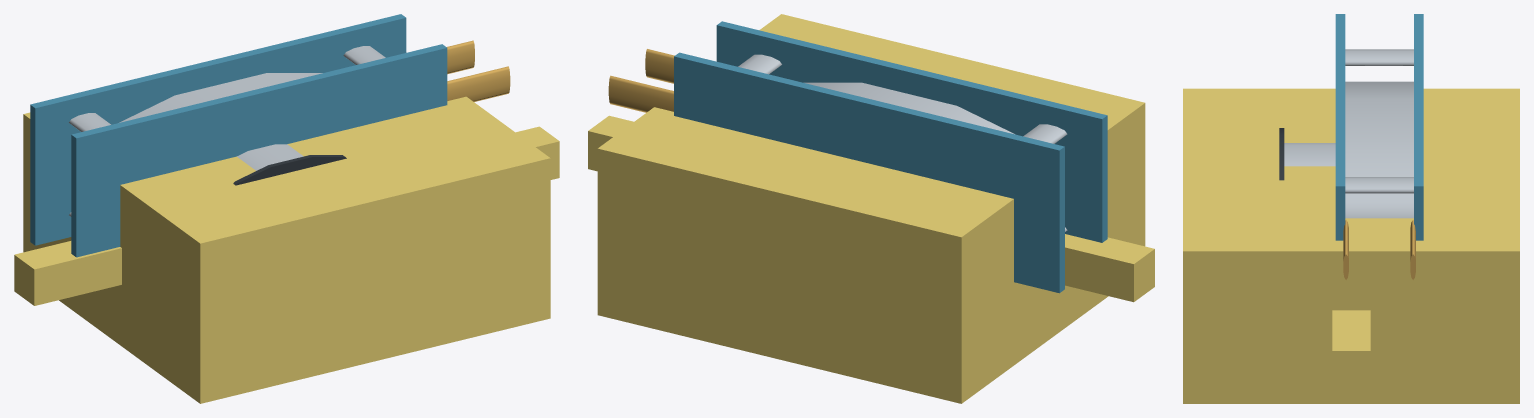
3 views of the same model, side by side, from view 1: azimuth 30°, elevation 25°; view 2: azimuth 150°, elevation 25°; view 3: azimuth 270°, elevation 25° (orthographic). The views are drawn at different scales.
Visible parts, largest first — view 1: visualCarriage, g2, g1, object 13, g0, g10, g8, g7, g9, g4, g6; view 2: visualCarriage, g1, g2, object 13, g0, g9, g10, g4, g6; view 3: visualCarriage, g0, object 13, g2, g1, g7, g4, g6, g9, g10, g8.
Boxes of the visible parts, x1,y1,x2,y2 form: visualCarriage: (23,96,550,403); g2: (71,44,447,257); g1: (30,14,406,245); object 13: (14,126,559,305); g0: (119,73,322,122); g10: (447,66,510,101); g8: (233,155,346,185); g7: (237,144,303,170); g9: (447,40,474,74); g4: (69,113,110,131); g6: (343,46,385,64); visualCarriage: (597,14,1145,403); g1: (674,52,1064,293); g2: (716,21,1107,242); object 13: (588,115,1154,302); g0: (804,82,1014,134); g9: (608,75,673,112); g10: (645,49,674,83); g4: (1023,124,1067,143); g6: (738,54,781,74); visualCarriage: (1183,88,1519,403); g0: (1345,81,1413,218); object 13: (1332,310,1370,385); g2: (1335,14,1345,240); g1: (1414,14,1423,240); g7: (1284,143,1335,166); g4: (1345,49,1413,65); g6: (1345,177,1413,193); g9: (1410,220,1415,279); g10: (1343,220,1348,279); g8: (1279,128,1284,180).
Bounding box in the file's own units: 1.2 × 0.475 × 0.7.
